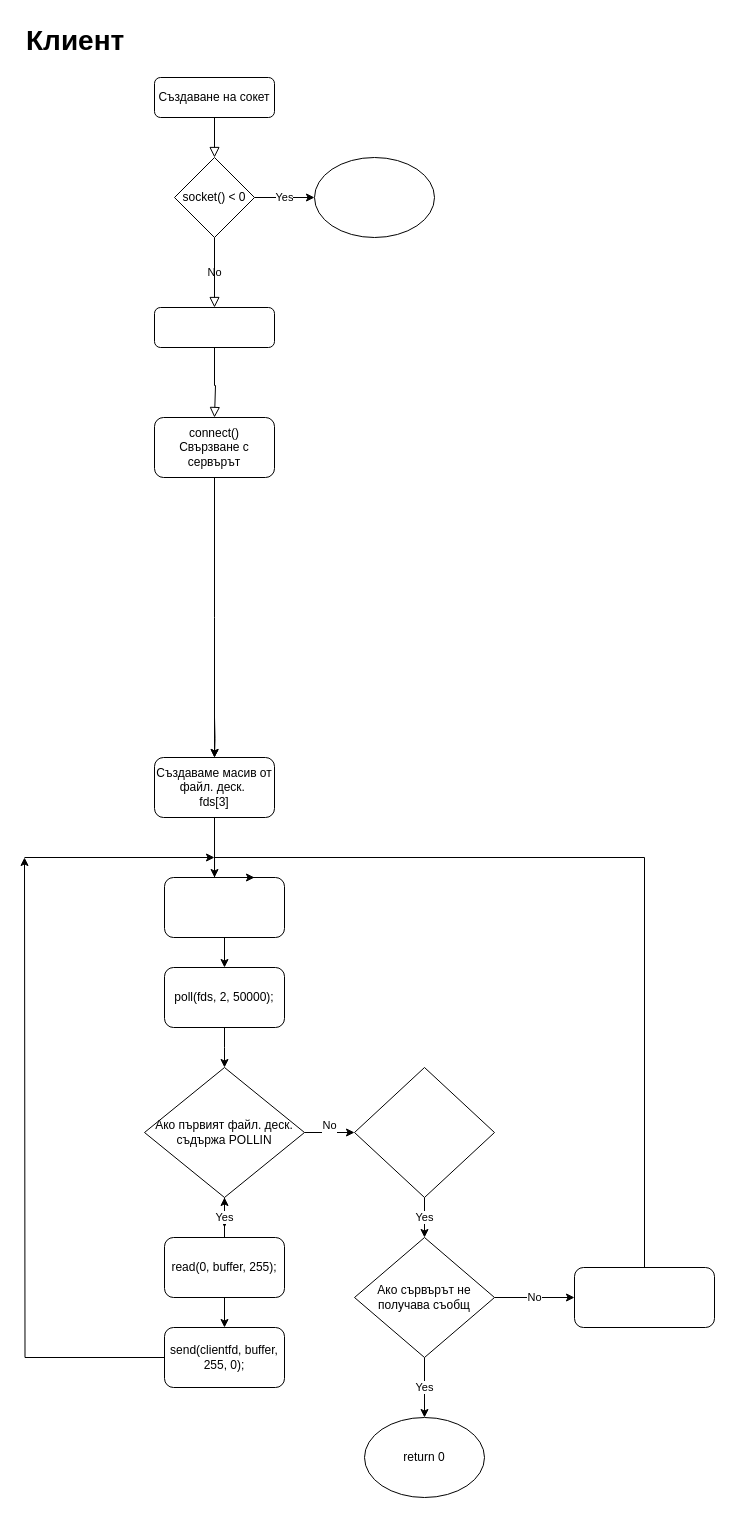
The diagram is 732 pixels wide and 1515 high, and some of its shapes have lost their labels. The shapes that lost their labels are listed below. From the top down, each one's box as (x1, y1, x2, y2) in pixels, then its label:
(314, 156, 434, 238): return 1
(154, 306, 274, 348): Създаване на адресна структура
(164, 876, 284, 938): char buffer[256]
(354, 1066, 494, 1198): Ако втория ...
(574, 1266, 714, 1328): printf("%s\n", buffer);
